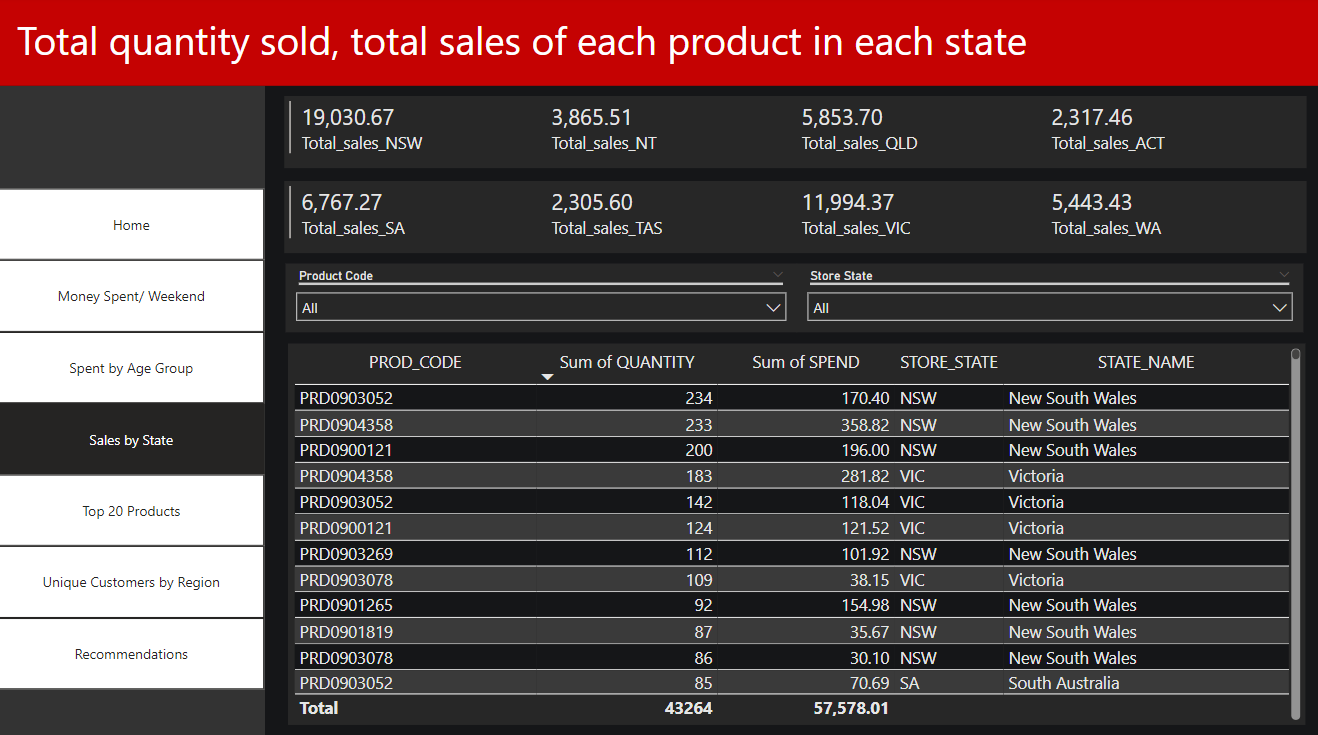

The dashboard page shown, as its layout file describes it:
{"tool":"powerbi","page":{"name":"Sales by State","canvas":[1280,720],"ordinal":3},"visuals":[{"type":"shape","box":[0,0,1279.9,86.8],"z":0},{"type":"shape","box":[0,86.8,257.9,633.2],"z":1000},{"type":"multiRowCard","fields":{"Values":["QUESTION_3.Total_sales_NSW","QUESTION_3.Total_sales_NT","QUESTION_3.Total_sales_QLD","TRANSACTIONS.Total_sales_ACT"]},"box":[276.7,96,986.5,69.9],"z":2000},{"type":"multiRowCard","fields":{"Values":["QUESTION_3.Total_sales_SA","QUESTION_3.Total_sales_TAS","QUESTION_3.Total_sales_VIC","QUESTION_3.Total_sales_WA"]},"box":[276.7,178,986.5,69.9],"z":3000},{"type":"pageNavigator","box":[0,185.8,257.9,485.3],"z":4000},{"type":"textbox","box":[13.3,12.1,1245.8,74.8],"z":5000},{"type":"slicer","fields":{"Values":["TRANSACTIONS.PROD_CODE"]},"box":[277.4,258.1,493.3,66.3],"z":6000},{"type":"slicer","fields":{"Values":["TRANSACTIONS.STORE_STATE"]},"box":[770.7,258.1,488.4,66.3],"z":7000},{"type":"tableEx","fields":{"Values":["TRANSACTIONS.PROD_CODE","Sum(TRANSACTIONS.QUANTITY)","Sum(TRANSACTIONS.SPEND)","TRANSACTIONS.STORE_STATE","State_Lookup.STATE_NAME"]},"box":[279.8,335.3,981.7,367.8],"z":8000}]}

Visuals, with their boxes on the page's 1280x720 design canvas (x1, y1, x2, y2). These are canvas units, not pixel positions in the 1318x735 screenshot, which may show the page scaled, cropped or inside an application window:
shape: (0, 0, 1280, 87)
shape: (0, 87, 258, 720)
multiRowCard - QUESTION_3.Total_sales_NSW x QUESTION_3.Total_sales_NT: (277, 96, 1263, 166)
multiRowCard - QUESTION_3.Total_sales_SA x QUESTION_3.Total_sales_TAS: (277, 178, 1263, 248)
pageNavigator: (0, 186, 258, 671)
textbox: (13, 12, 1259, 87)
slicer - TRANSACTIONS.PROD_CODE: (277, 258, 771, 324)
slicer - TRANSACTIONS.STORE_STATE: (771, 258, 1259, 324)
tableEx - TRANSACTIONS.PROD_CODE x Sum(TRANSACTIONS.QUANTITY): (280, 335, 1262, 703)
